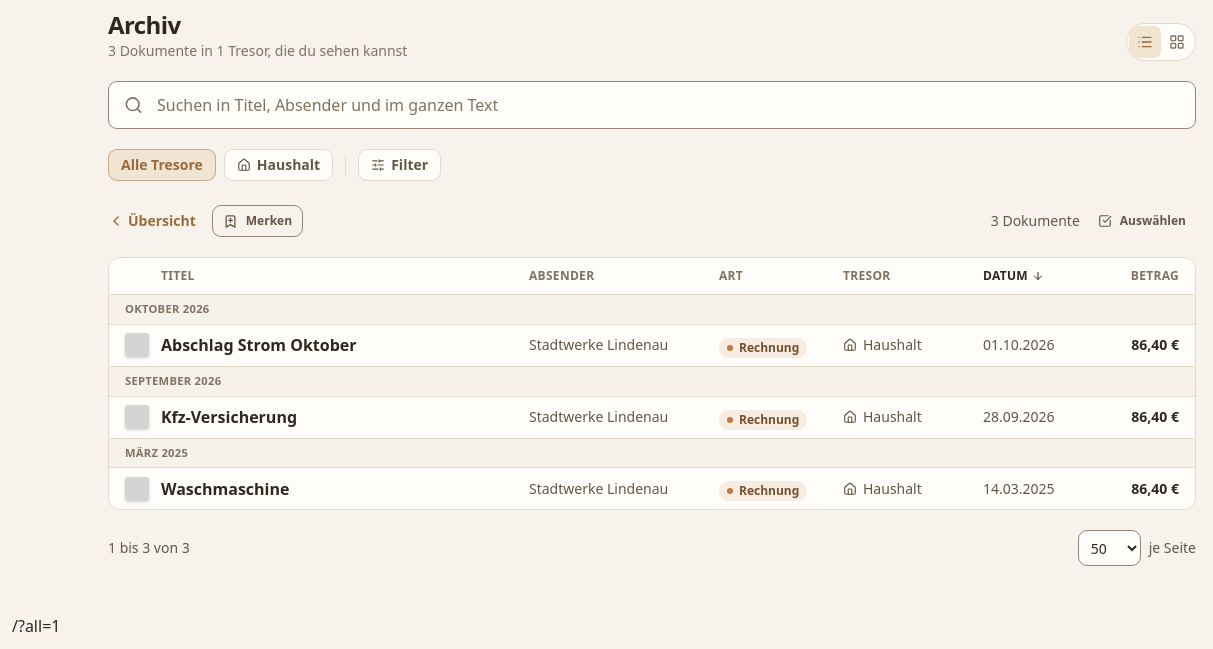
Test: below the width › opens the document on its own page, as before
Click the link that starts with "Kfz-Versicherung" at {"x": 652, "y": 417}, box [125,405,1179,430]
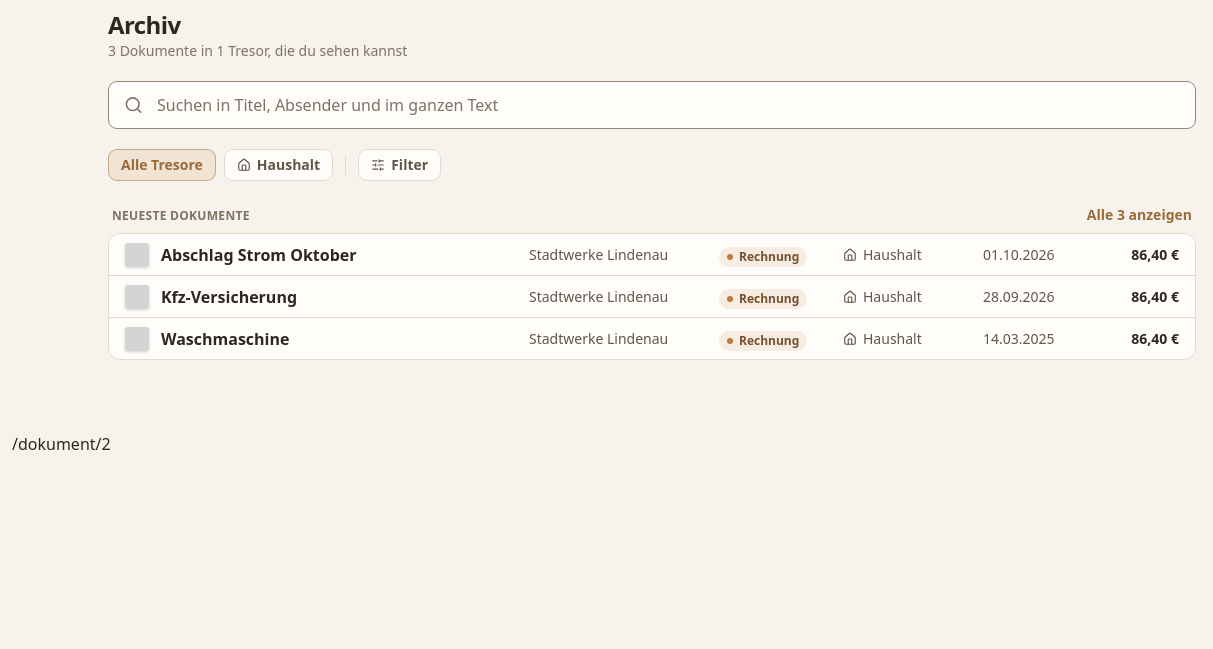
Check: the text with test id "where" reads "/dokument/2", box [12,433,111,455]
